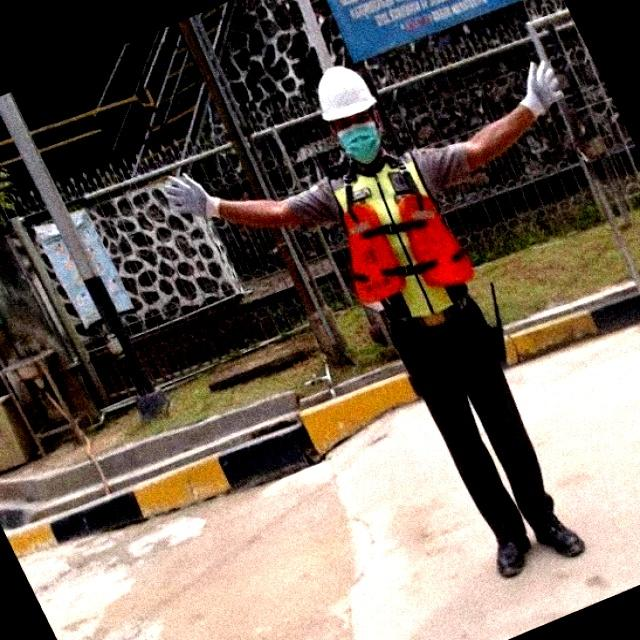Capacete: (318, 66, 375, 120)
Colete: (335, 160, 473, 315)
